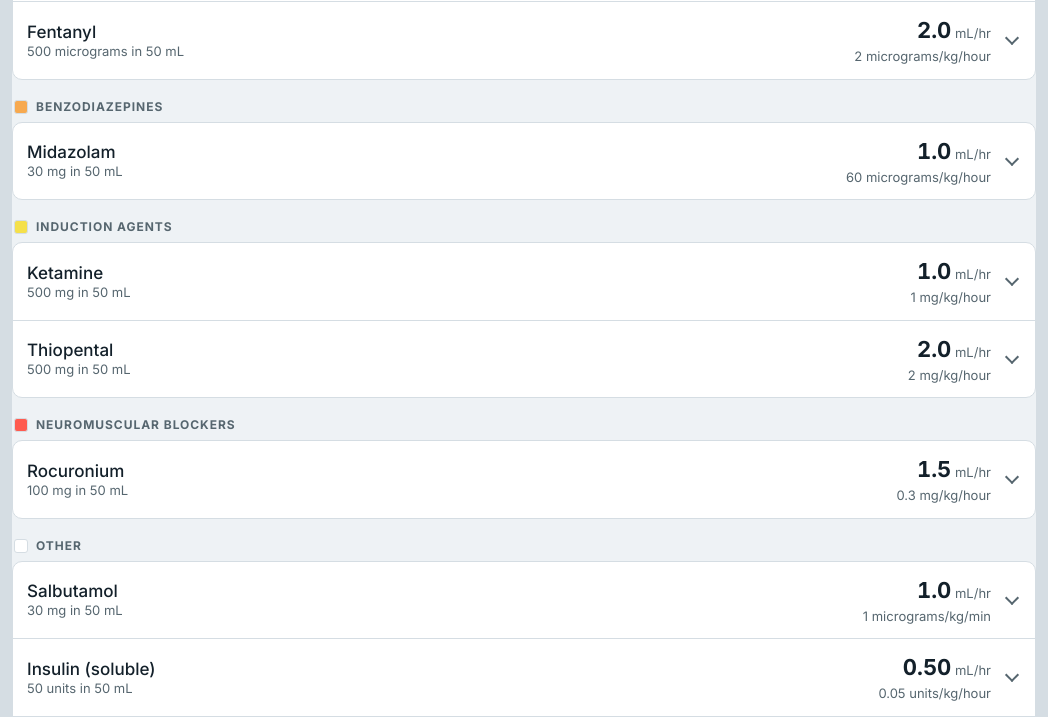
Test: an open row › uses the drug diluent when set
(page scrolled)
Click the button "Thiopental 500 mg in 50 mL 2.0 mL/hr 2 mg/kg/hour": (70, 350) [13,320,1035,397]
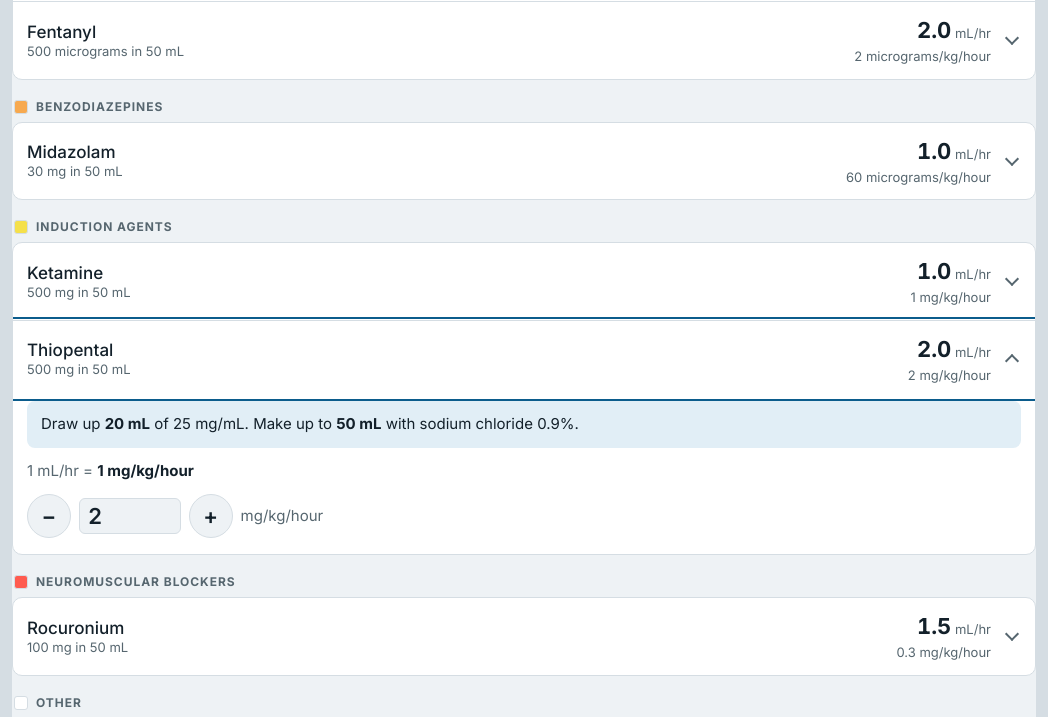
expect the text "Draw up" shows "with sodium chloride 0.9%.": met, box [27,401,1021,448]
